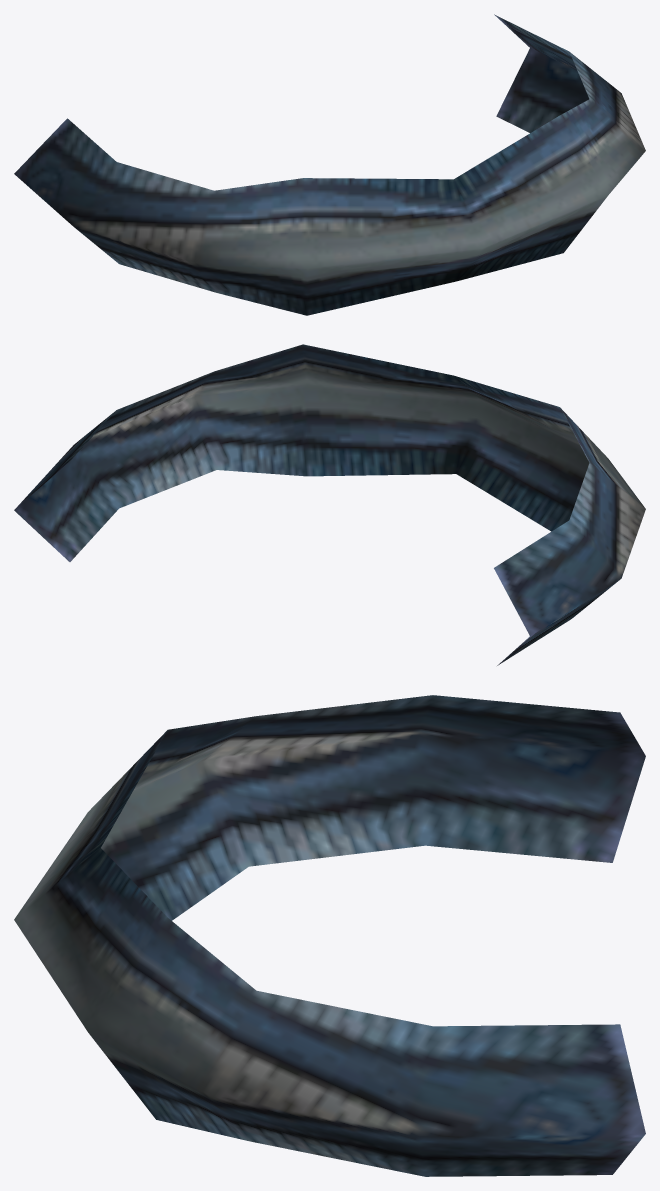
File: Glasses5.glb
3 views of the same model, one above another, from view 1: azimuth 30°, elevation 25°; view 2: azimuth 150°, elevation 25°; view 3: azimuth 270°, elevation 25° (orthographic). The views are drawn at different scales.
Parts seen in each view (by area): view 1: Glasses5; view 2: Glasses5; view 3: Glasses5.
Part boxes in pixels (<box>): Glasses5: <box>14,14,645,315</box>; Glasses5: <box>14,344,645,665</box>; Glasses5: <box>14,695,645,1176</box>.
Size of the model in its own units: 10.21 by 2.4 by 6.8.
1 material, 1 textured.
